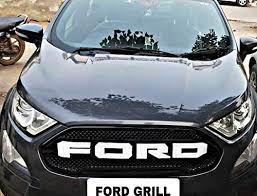Ford: (3, 1, 254, 196)
